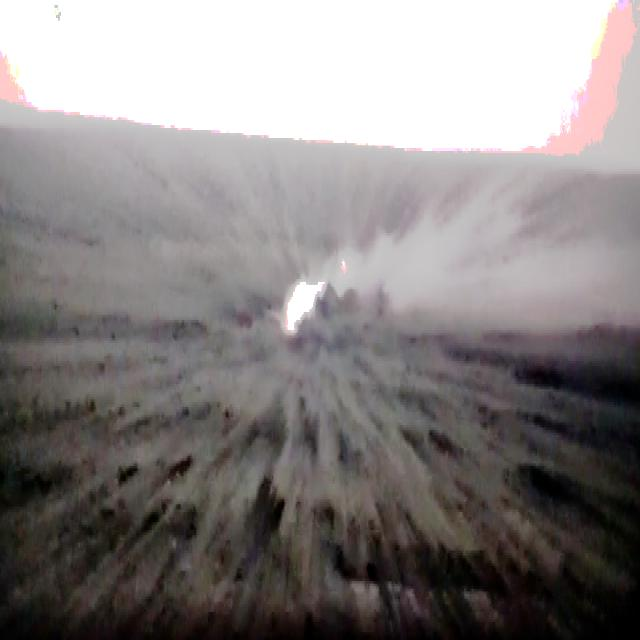asap: (277, 188, 485, 357)
